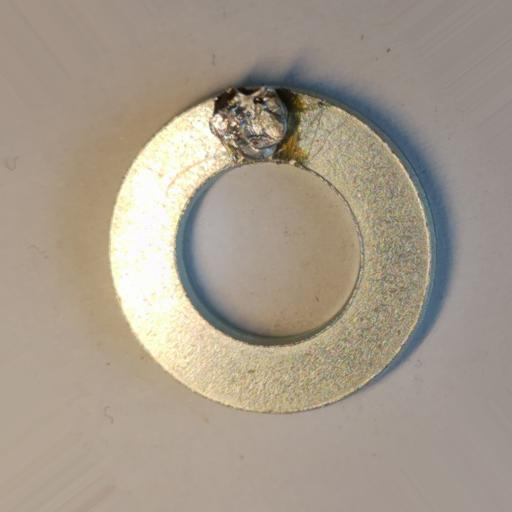excess_material: (210, 86, 290, 161)
